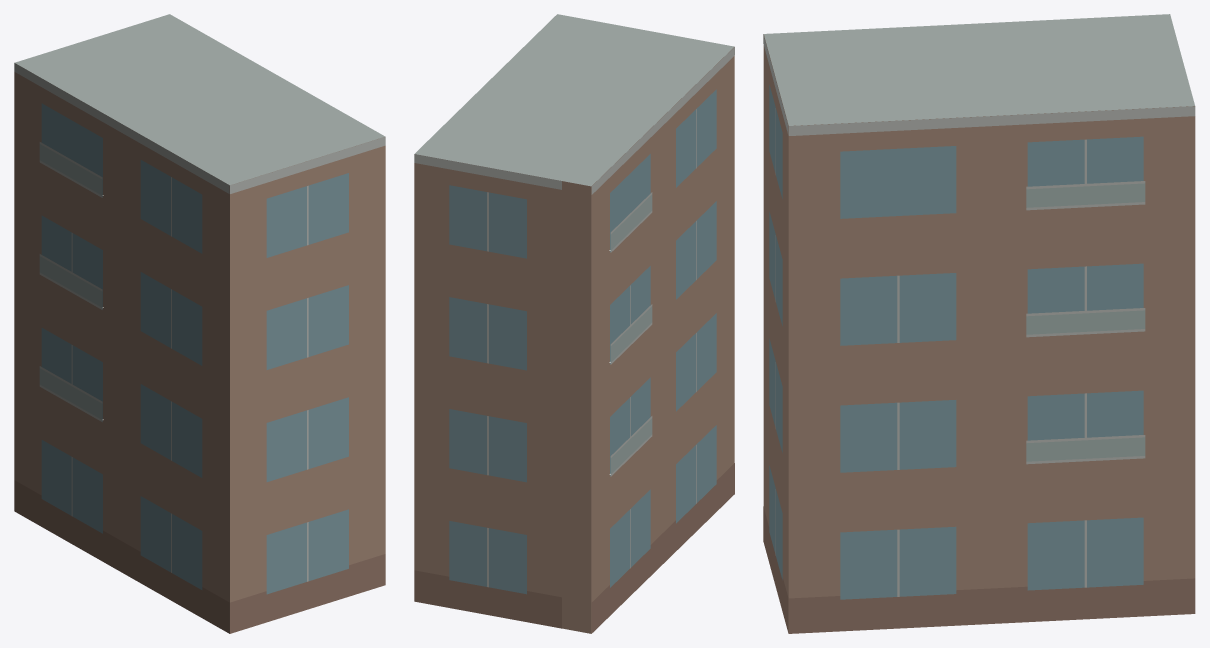
File: residential-3c78d5f2-e09c-4782-9b85-3eb82567b6b7.glb
The picture shows the model from 3 angles, left to right: view 1: azimuth 30°, elevation 25°; view 2: azimuth 150°, elevation 25°; view 3: azimuth 270°, elevation 25°; orthographic projection. The views are drawn at different scales.
Parts seen in each view (by area): view 1: residential-3c78d5f2-e09c-4782-9b85-3eb82567b6b7.tmp; view 2: residential-3c78d5f2-e09c-4782-9b85-3eb82567b6b7.tmp; view 3: residential-3c78d5f2-e09c-4782-9b85-3eb82567b6b7.tmp.
Part boxes in pixels (x1,y1,x2,y2): residential-3c78d5f2-e09c-4782-9b85-3eb82567b6b7.tmp: (14, 14, 385, 633); residential-3c78d5f2-e09c-4782-9b85-3eb82567b6b7.tmp: (414, 14, 734, 633); residential-3c78d5f2-e09c-4782-9b85-3eb82567b6b7.tmp: (763, 14, 1195, 633).
Size of the model in its own units: 5.78 by 12.2 by 9.41.
